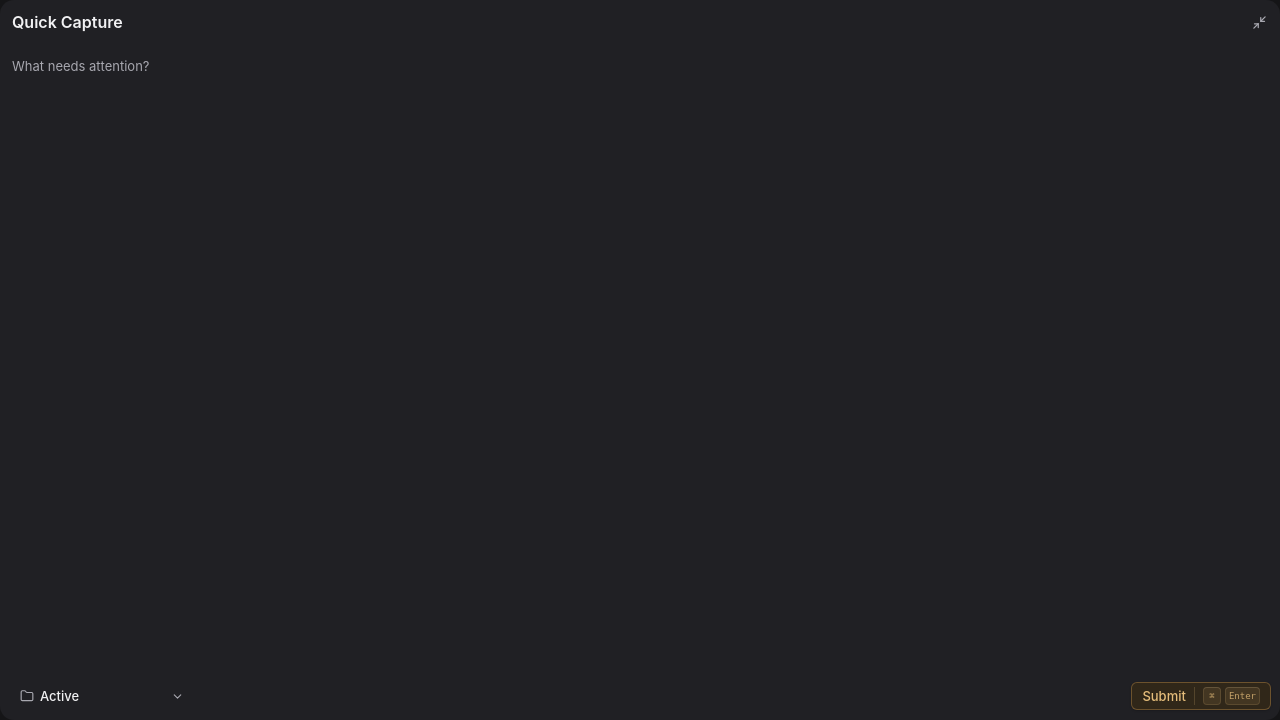
it: QuickCaptureApp › disables_capture_for_a_read_only_project
Click the dropdown named "Project".
click(102, 696)  # box [12, 682, 192, 710]
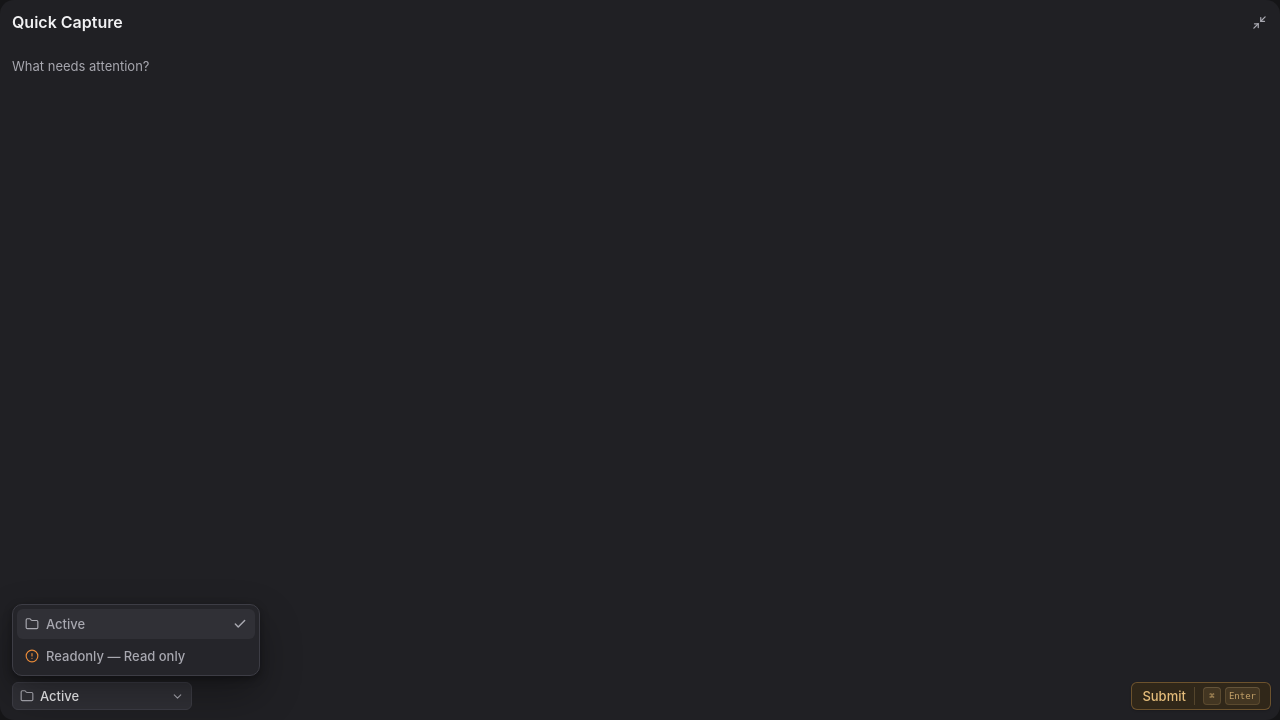
Click the option "Readonly — Read only".
click(136, 656)  # box [17, 641, 255, 671]
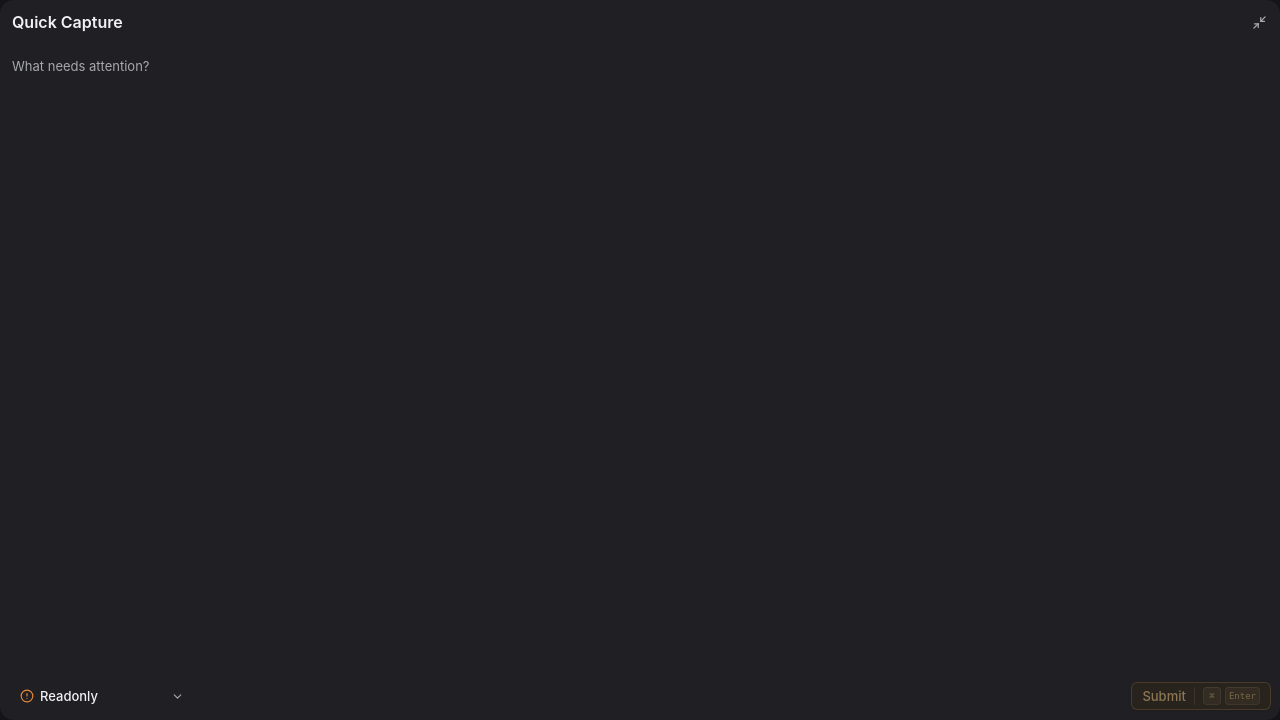
Expected: the button "Submit ⌘ Enter" is disabled, [1131, 682, 1271, 710]
